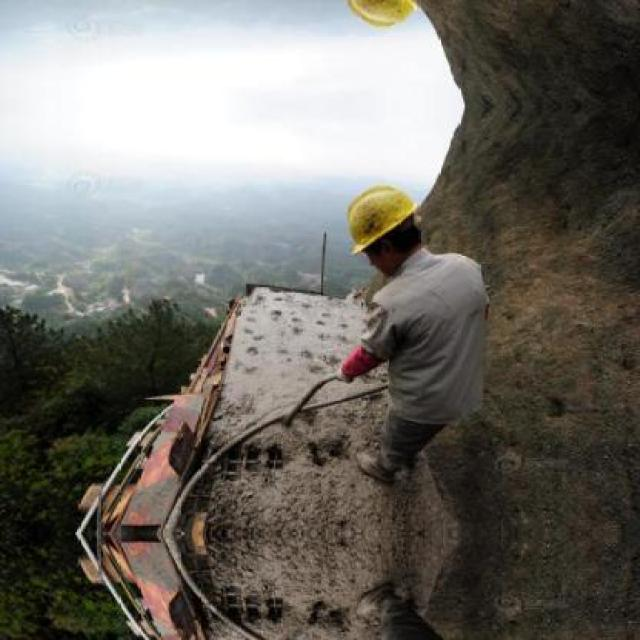helmet: (333, 168, 430, 282), (332, 0, 430, 46)
